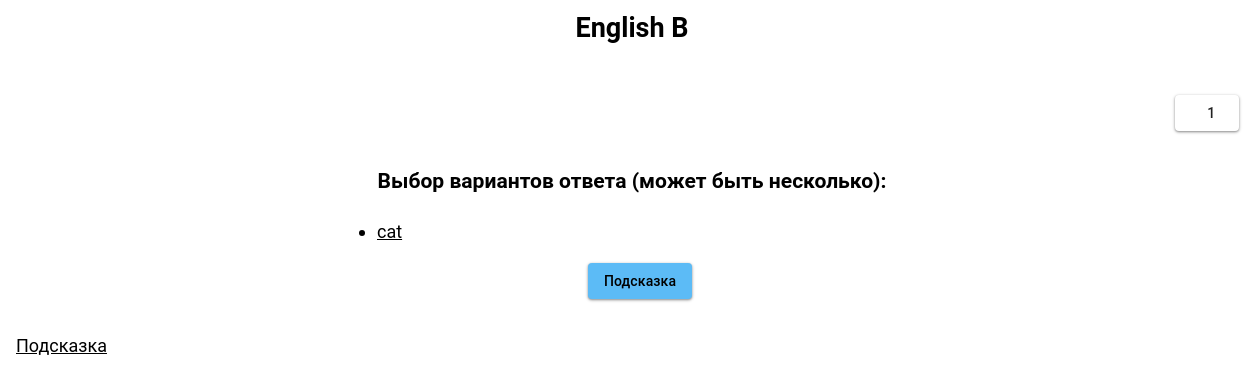
EnglishTime.vue › кнопки "Проверить" и "Подсказка" › кнопка "Проверить" появляется после выбора ответа
The width and height of the screenshot is (1258, 372).
Click the list item with test id "answer-item".
click(390, 232)  # box x1=377 y1=221 x2=402 y2=242
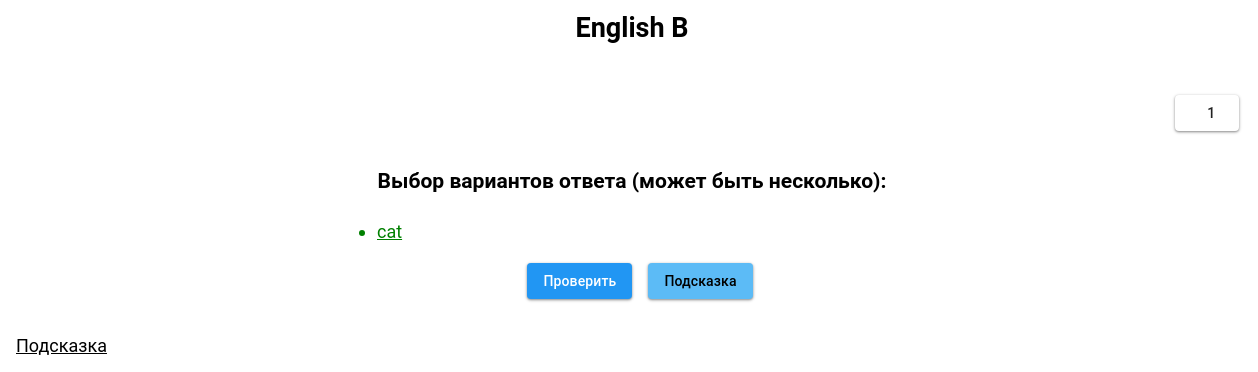
Check: the button with test id "button-check" is shown, box x1=527 y1=263 x2=632 y2=299
